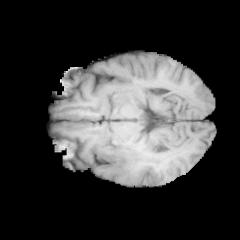glioma: (98, 145, 160, 183)
